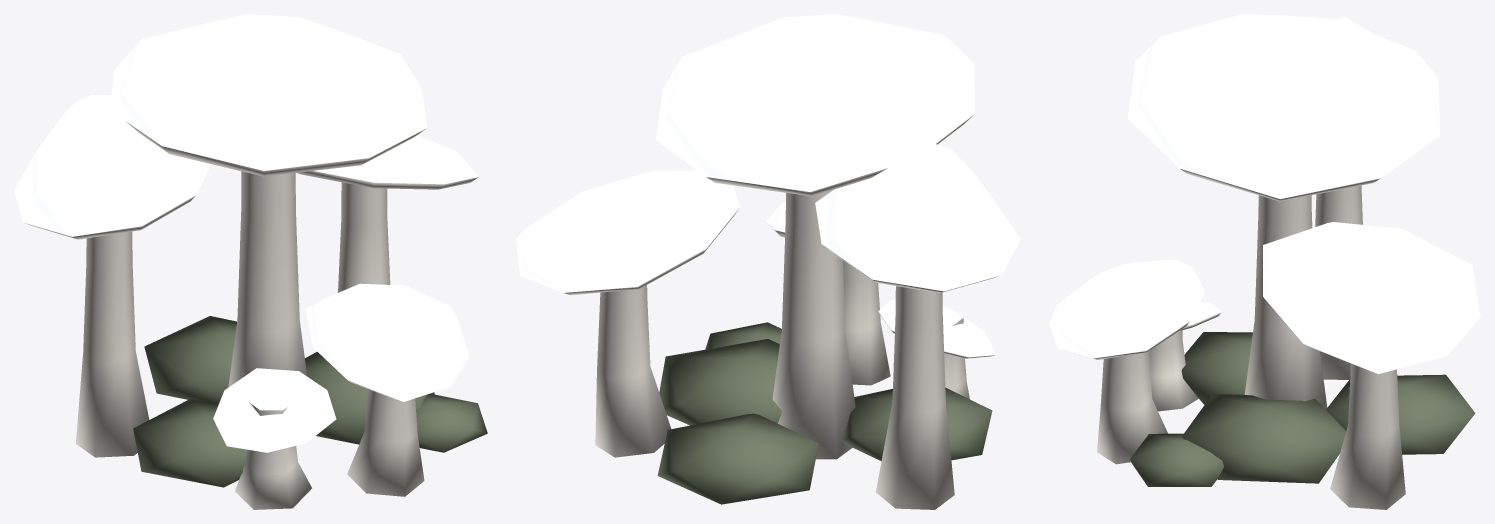
The model's file is mushroom_small.glb.
The picture shows the model from 3 angles, left to right: view 1: azimuth 30°, elevation 25°; view 2: azimuth 150°, elevation 25°; view 3: azimuth 270°, elevation 25°; orthographic projection. The views are drawn at different scales.
Parts seen in each view (by area): view 1: Body; view 2: Body; view 3: Body.
Part boxes in pixels (x1=…): Body: x1=14, y1=14, x2=487, y2=509; Body: x1=516, y1=14, x2=1020, y2=509; Body: x1=1049, y1=14, x2=1480, y2=509.
Bounding box in the file's own units: 1.38 × 1.16 × 1.15.
